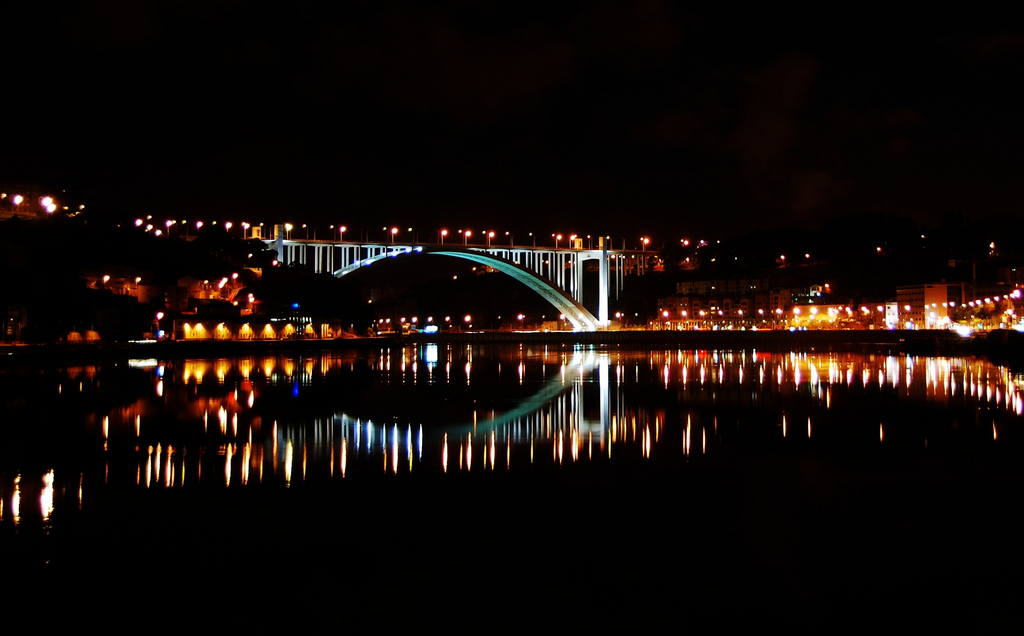arrabida: (238, 221, 668, 332)
